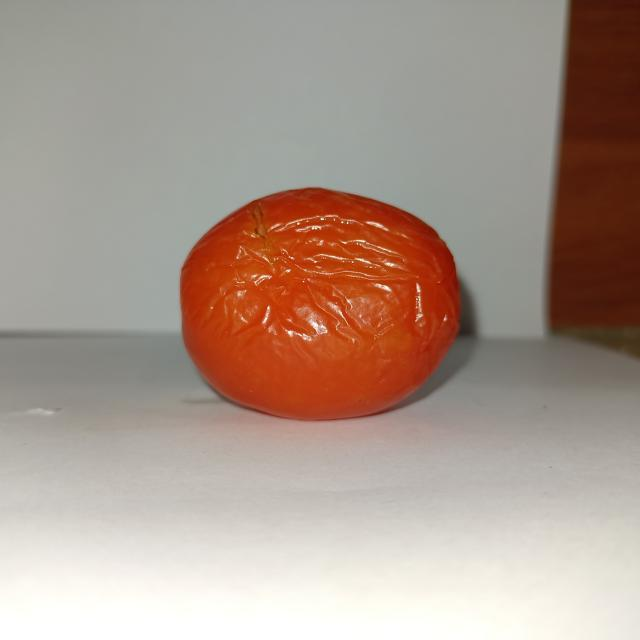Red: (178, 185, 462, 421)
